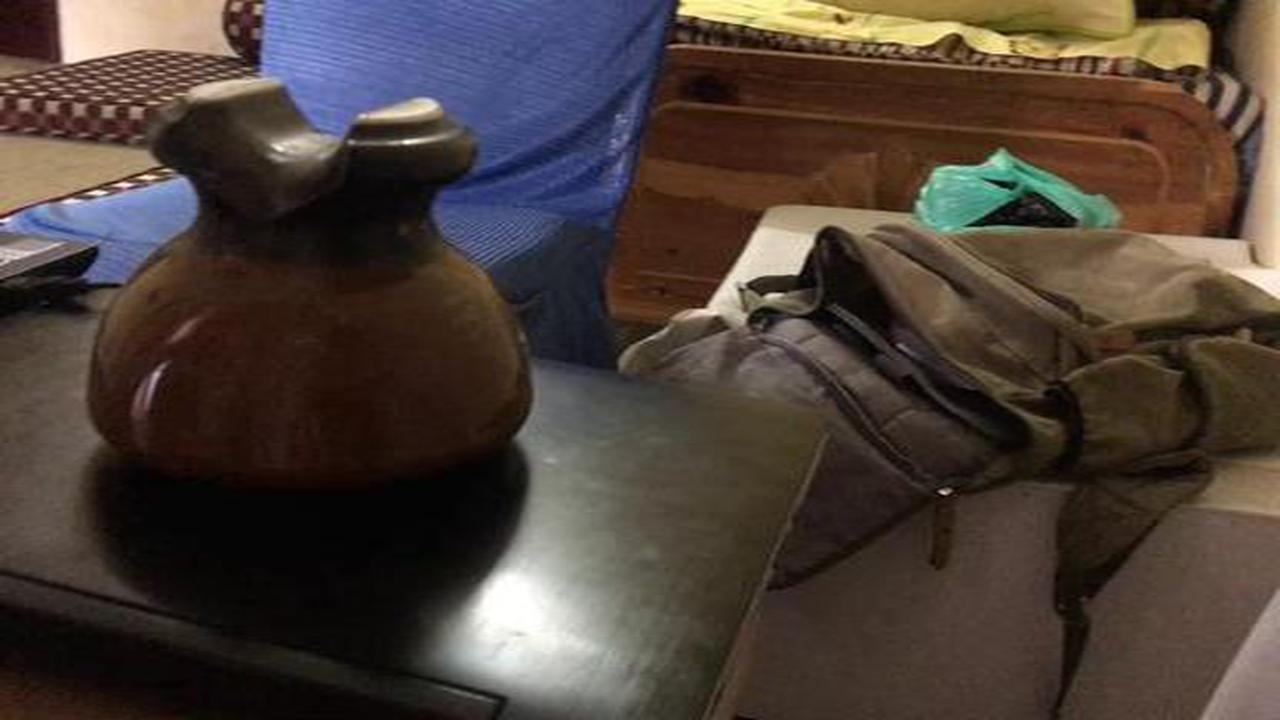insulator_pin: (74, 65, 551, 513)
